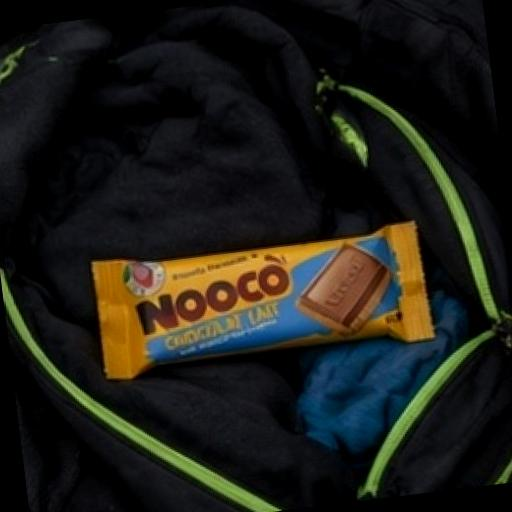nooco: (62, 164, 496, 424)
